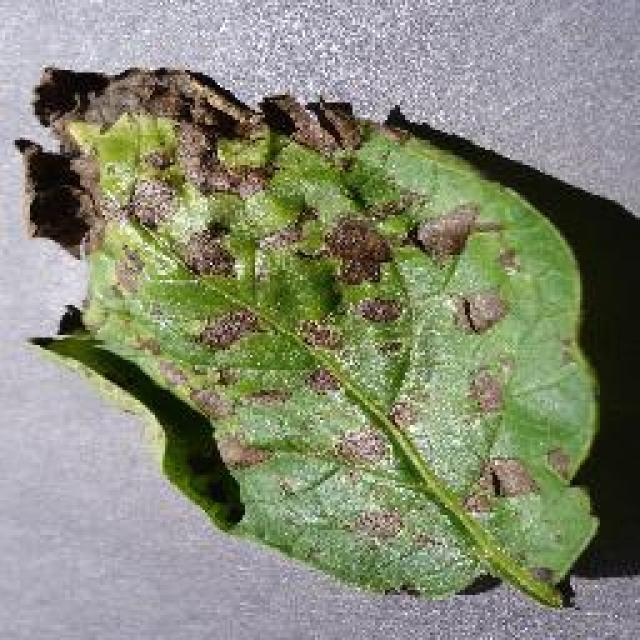early_blight: (15, 62, 605, 610)
